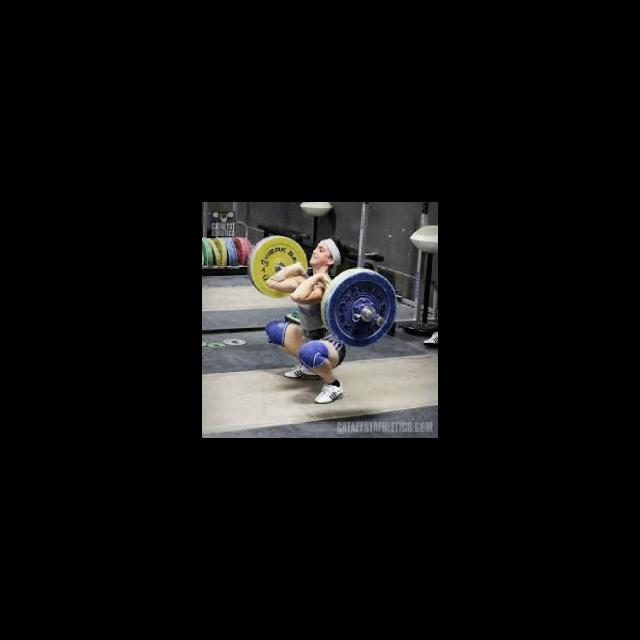barbell: (325, 270, 398, 349)
